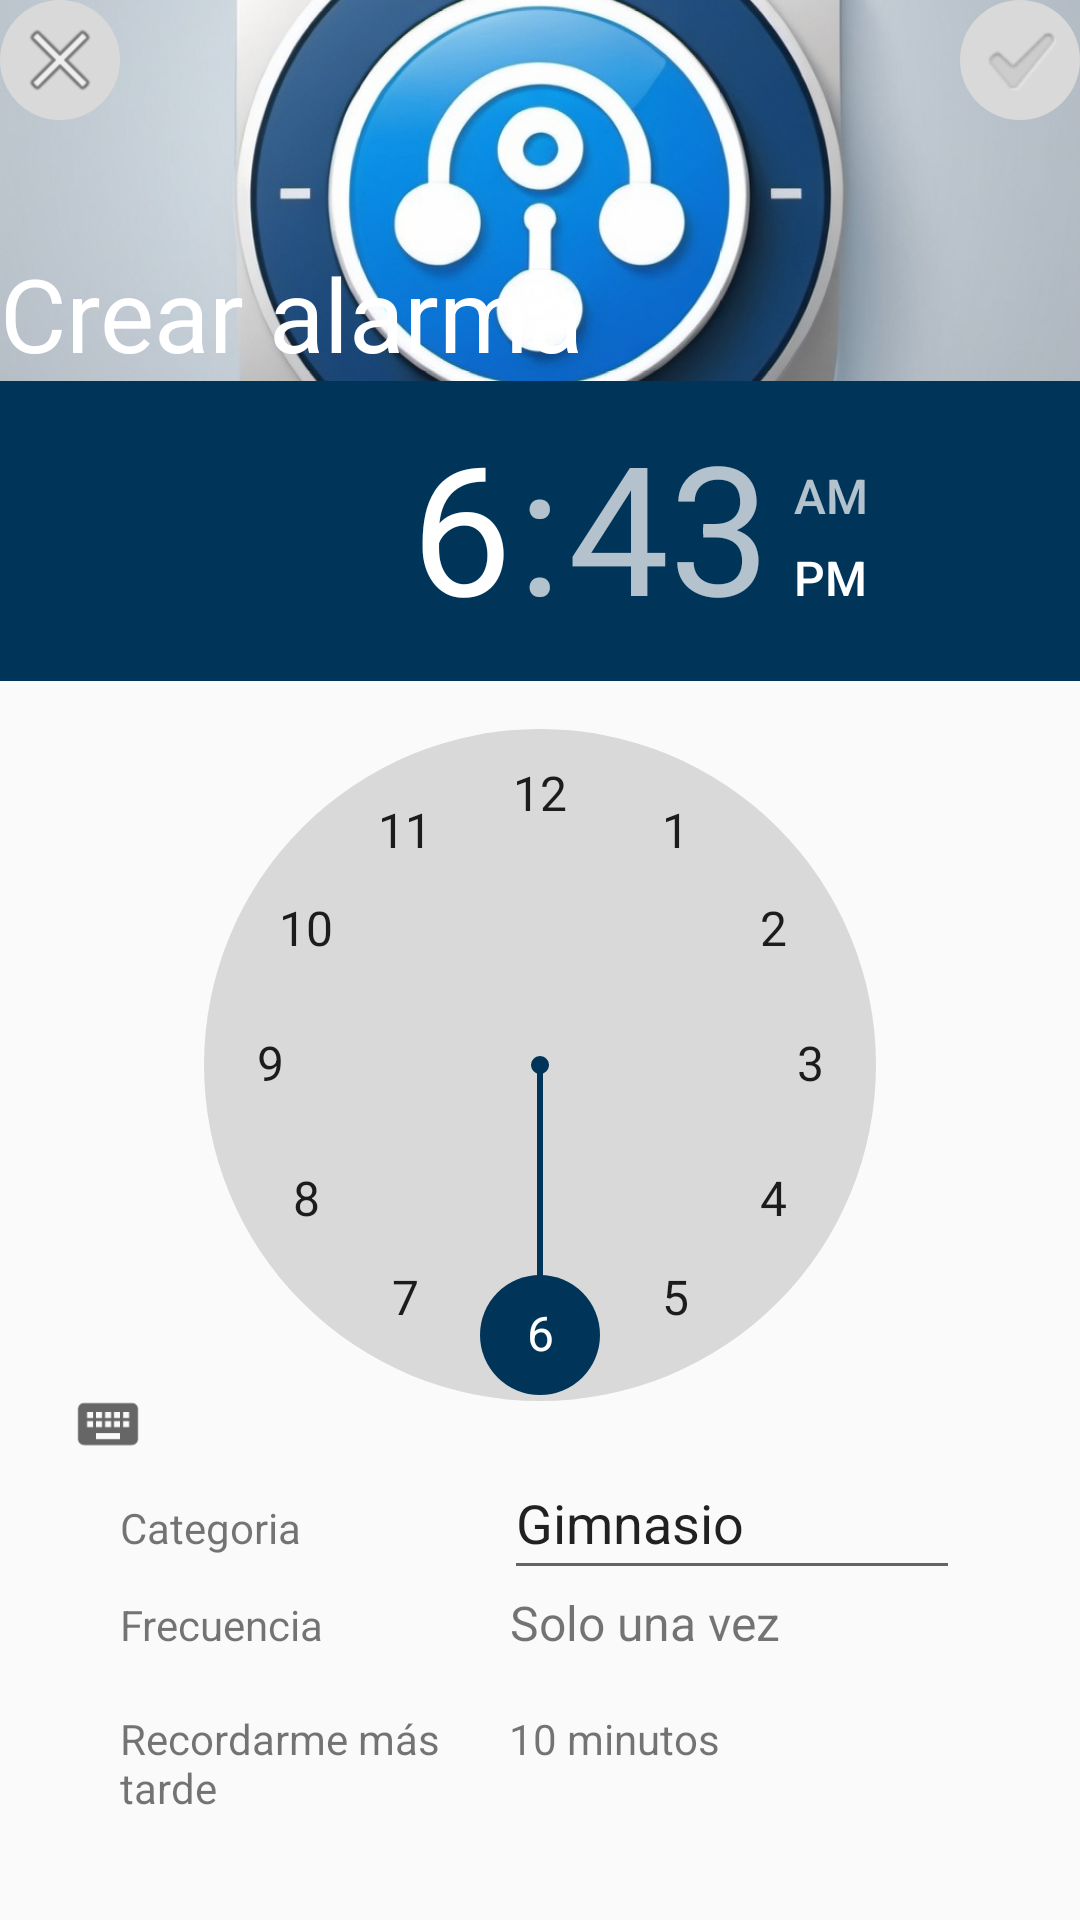

Locate icon controls on the screen. Image size 1080*1920, boxes as (x1, y1, x2, y2).
close clear cancel: (0, 0, 120, 120)
